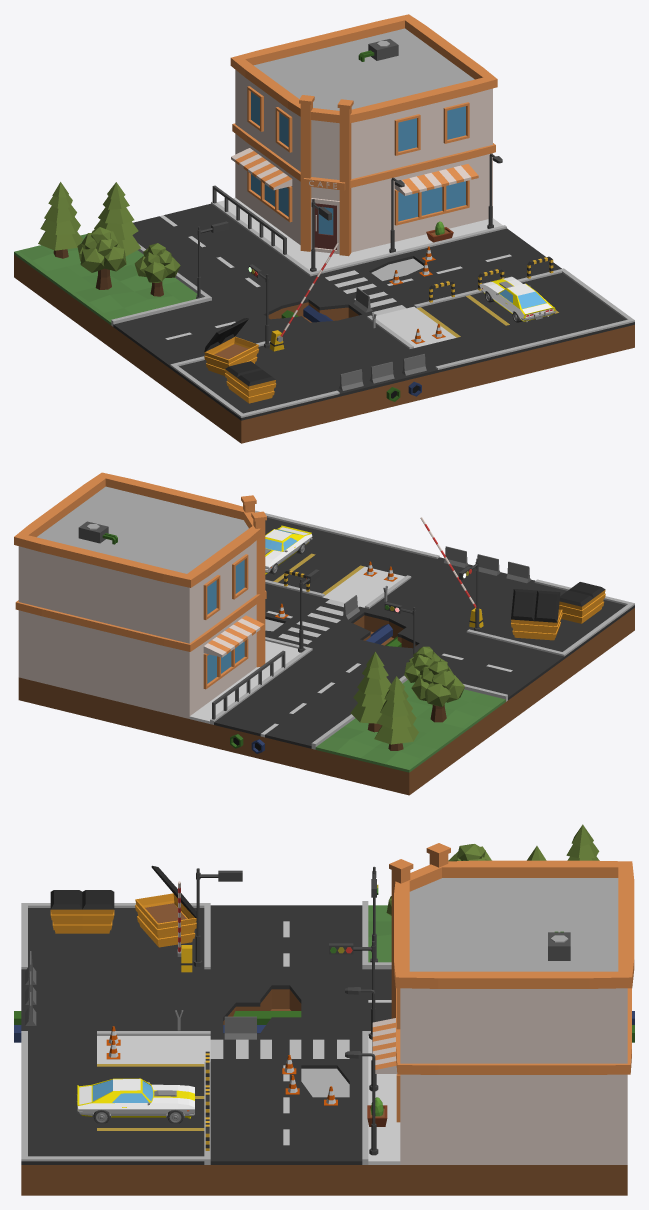
File: city_pair_C1_tweaked.glb
3 views of the same model, one above another, from view 1: azimuth 30°, elevation 25°; view 2: azimuth 150°, elevation 25°; view 3: azimuth 270°, elevation 25° (orthographic). The views are drawn at different scales.
Visible parts, largest first — view 1: Plane_0, Plane.005_22, Plane.007_23, Car_31, Plane.008_2, Plane.006_1, Plane.009_3, Plane.002_12; view 2: Plane_0, Plane.008_2, Plane.005_22, Plane.007_23, Plane.006_1, Plane.009_3, Car_31, Plane.002_12; view 3: Plane_0, Car_31, Plane.009_3, Plane.008_2, Plane.016_8, Cube.002_13, Plane.005_22, Plane.010_17, Plane.015_7, Plane.007_23.
Boxes of the visible parts, bbox=[...] form: Plane_0: bbox=[14, 14, 634, 443]; Plane.005_22: bbox=[38, 182, 82, 258]; Plane.007_23: bbox=[77, 227, 126, 289]; Car_31: bbox=[479, 276, 555, 321]; Plane.008_2: bbox=[204, 318, 258, 375]; Plane.006_1: bbox=[94, 182, 140, 256]; Plane.009_3: bbox=[225, 361, 276, 403]; Plane.002_12: bbox=[134, 243, 180, 296]; Plane_0: bbox=[14, 472, 634, 795]; Plane.008_2: bbox=[511, 589, 562, 640]; Plane.005_22: bbox=[374, 676, 418, 750]; Plane.007_23: bbox=[411, 661, 464, 722]; Plane.006_1: bbox=[350, 651, 390, 732]; Plane.009_3: bbox=[559, 582, 605, 623]; Car_31: bbox=[265, 525, 312, 574]; Plane.002_12: bbox=[404, 646, 447, 682]; Plane_0: bbox=[14, 843, 634, 1195]; Car_31: bbox=[76, 1078, 194, 1118]; Plane.009_3: bbox=[50, 890, 114, 933]; Plane.008_2: bbox=[135, 865, 196, 947]; Plane.016_8: bbox=[193, 868, 242, 966]; Cube.002_13: bbox=[224, 1016, 256, 1039]; Plane.005_22: bbox=[566, 824, 599, 860]; Plane.010_17: bbox=[345, 1051, 378, 1155]; Plane.015_7: bbox=[329, 941, 376, 1039]; Plane.007_23: bbox=[448, 844, 491, 861].
Bounding box in the file's own units: 23.64 × 10.04 × 23.95.
